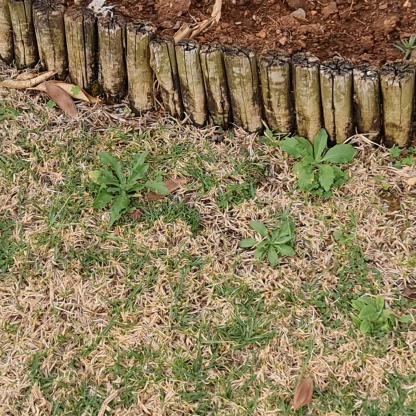Weeds: (94, 150, 169, 226), (278, 128, 359, 198), (239, 219, 299, 270), (351, 293, 393, 340), (333, 231, 356, 247)
